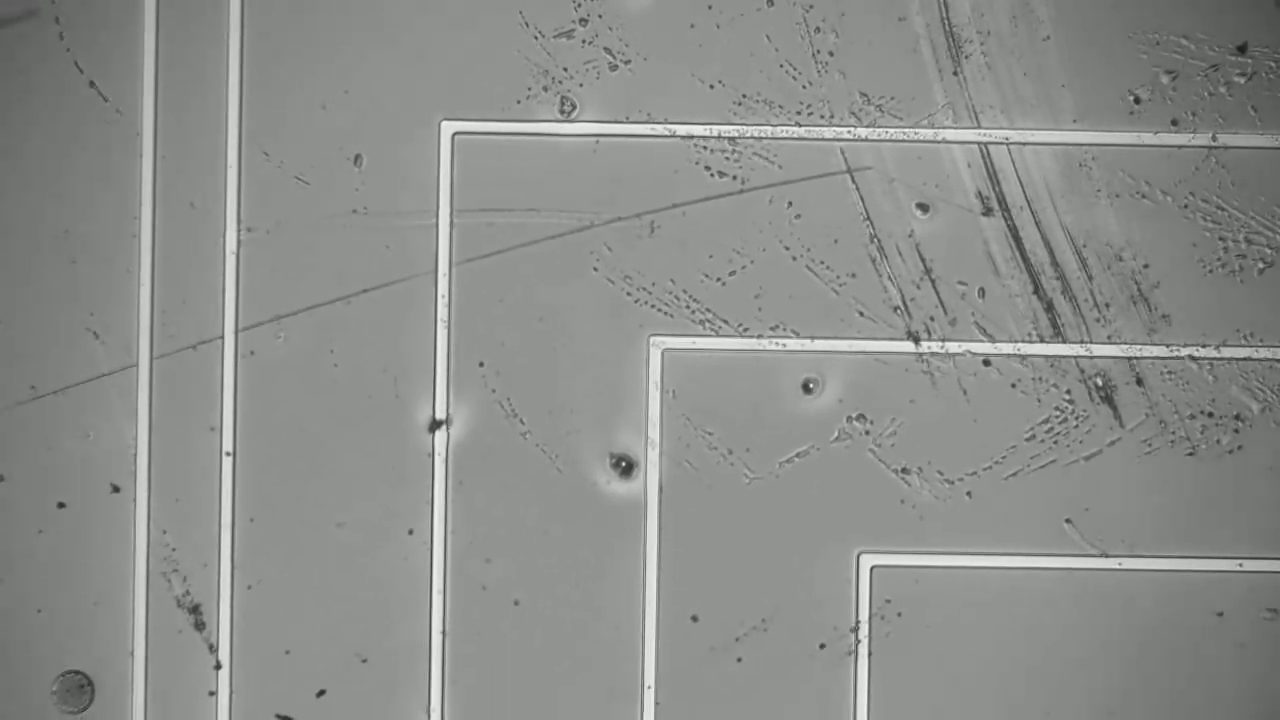scratch: (40, 150, 872, 396), (925, 4, 1114, 398), (833, 143, 925, 337), (40, 3, 163, 130)
stains_enbedded: (413, 399, 471, 449)
